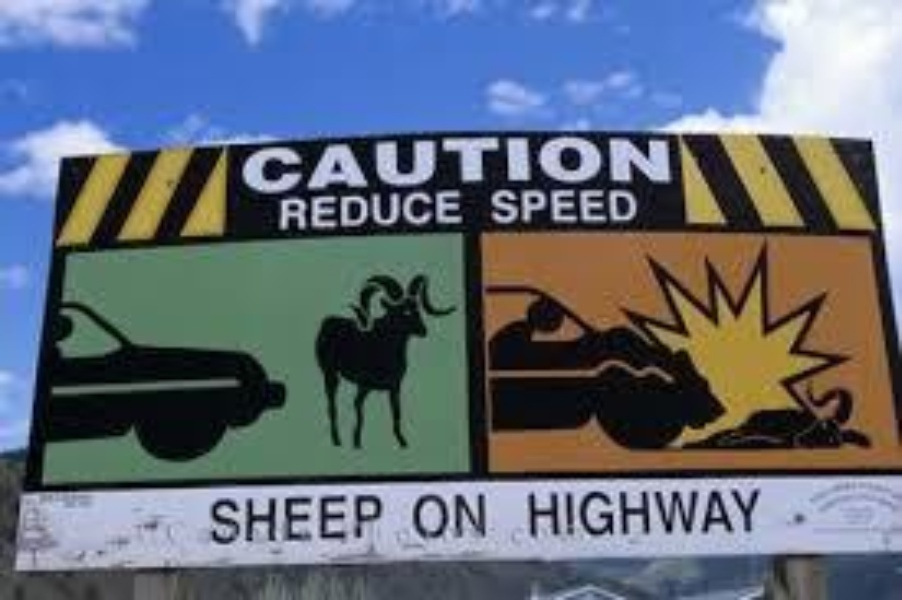text: (657, 135, 673, 194), (257, 135, 272, 194), (273, 135, 288, 194), (289, 135, 304, 194), (305, 135, 320, 194), (321, 135, 336, 194), (337, 135, 352, 194), (353, 135, 368, 194), (369, 135, 384, 194), (385, 135, 400, 194), (401, 135, 416, 194), (417, 135, 432, 194), (433, 135, 448, 194), (449, 135, 464, 194), (465, 135, 480, 194), (481, 135, 496, 194), (497, 135, 512, 194), (513, 135, 528, 194), (529, 135, 544, 194), (545, 135, 560, 194), (561, 135, 576, 194), (577, 135, 592, 194), (593, 135, 608, 194), (609, 135, 624, 194), (625, 135, 640, 194), (641, 135, 656, 194), (209, 492, 224, 548), (225, 492, 240, 548), (241, 492, 256, 548), (257, 492, 272, 548), (273, 492, 288, 548), (289, 492, 304, 548), (305, 492, 320, 548), (321, 492, 336, 548), (337, 492, 352, 548), (353, 492, 368, 548), (369, 492, 384, 548), (417, 489, 432, 541), (433, 489, 448, 541), (449, 489, 464, 541), (465, 489, 480, 541), (529, 489, 544, 538), (545, 489, 560, 538), (561, 489, 576, 538), (577, 489, 592, 538), (593, 489, 608, 538), (609, 489, 624, 538), (625, 489, 640, 538), (641, 489, 656, 538), (657, 489, 672, 538), (673, 489, 688, 538), (689, 489, 704, 538), (705, 489, 720, 538), (721, 489, 736, 538), (737, 489, 752, 538), (289, 187, 304, 233), (305, 187, 320, 233), (321, 187, 336, 233), (337, 187, 352, 233), (353, 187, 368, 233), (369, 187, 384, 233), (385, 187, 400, 233), (401, 187, 416, 233), (417, 187, 432, 233), (433, 187, 448, 233), (449, 187, 464, 233), (246, 135, 256, 194), (276, 187, 288, 233), (497, 187, 512, 223), (513, 187, 528, 223), (529, 187, 544, 223), (545, 187, 560, 223), (561, 187, 576, 223), (577, 187, 592, 223), (593, 187, 608, 223), (609, 187, 624, 223), (625, 187, 640, 223), (481, 489, 489, 541), (753, 489, 761, 538), (411, 489, 416, 541), (489, 187, 496, 223), (465, 187, 470, 233), (525, 489, 528, 538), (207, 492, 208, 548)
